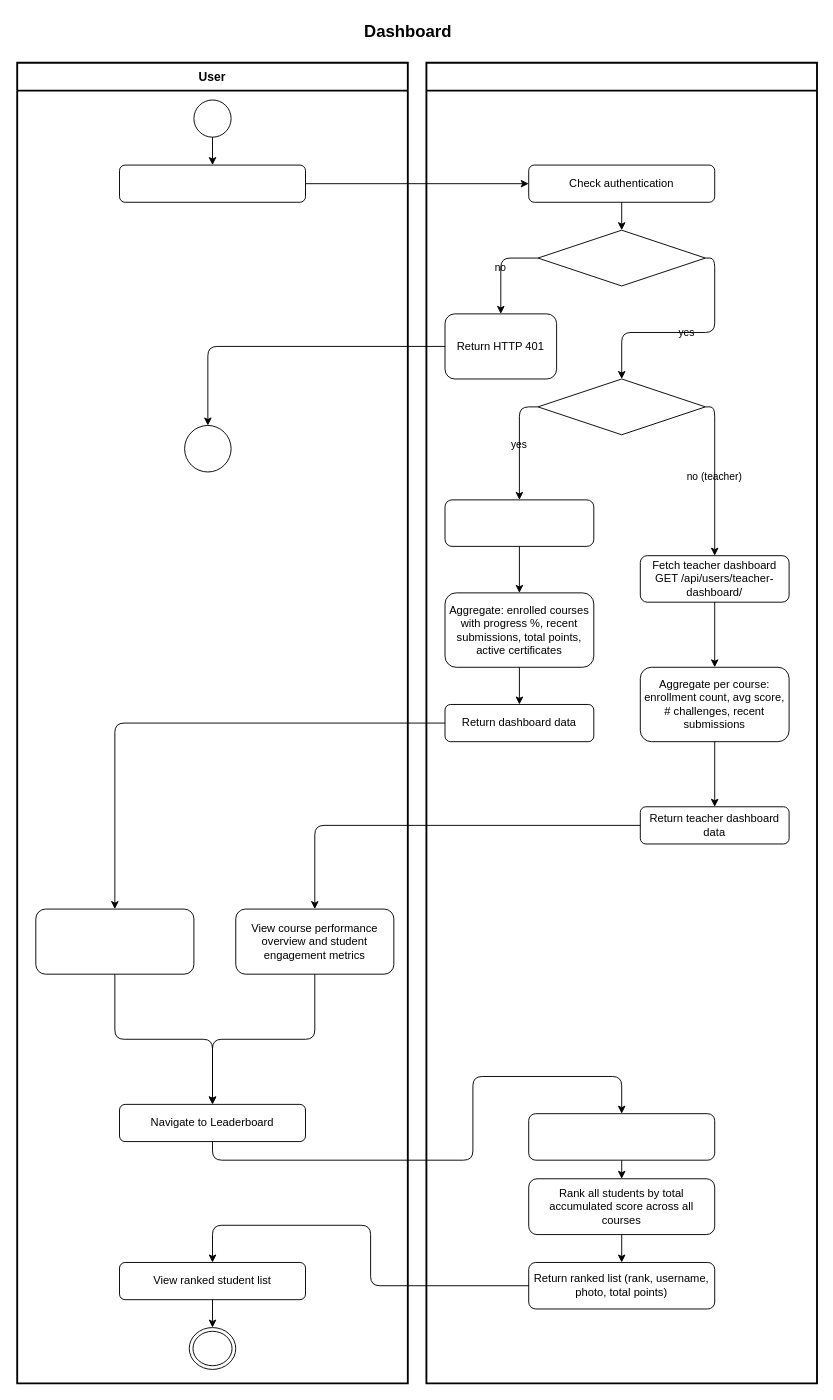
The diagram is 833 pixels wide and 1400 high, and some of its shapes have lost their labels. Each missing label, with the box of its shape:
Fetch leaderboard GET /api/users/leaderboard/: (528, 1113, 715, 1160)
Fetch student dashboard GET /api/users/dashboard/: (444, 499, 594, 546)
Navigate to Dashboard: (119, 164, 306, 202)
System: (425, 61, 817, 1384)
User authenticated?: (537, 229, 705, 286)
User role = student?: (537, 378, 705, 435)
View enrolled courses, progress bars, recent activity, and certificate links: (35, 908, 194, 974)
